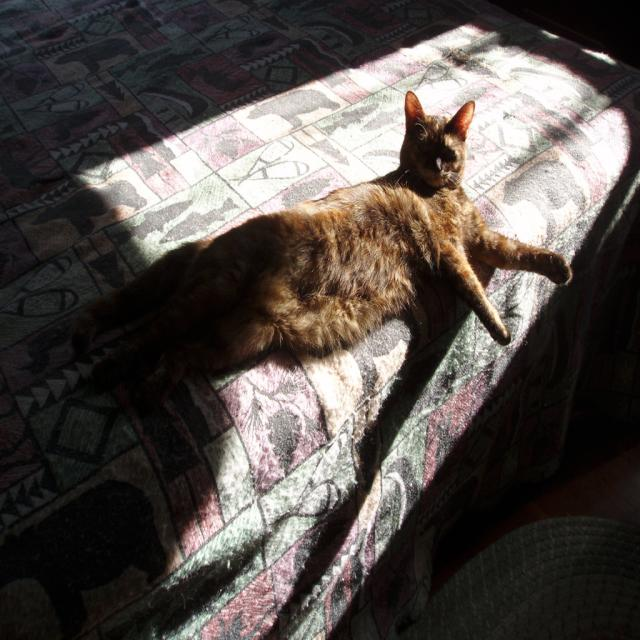cat: (70, 90, 574, 413)
